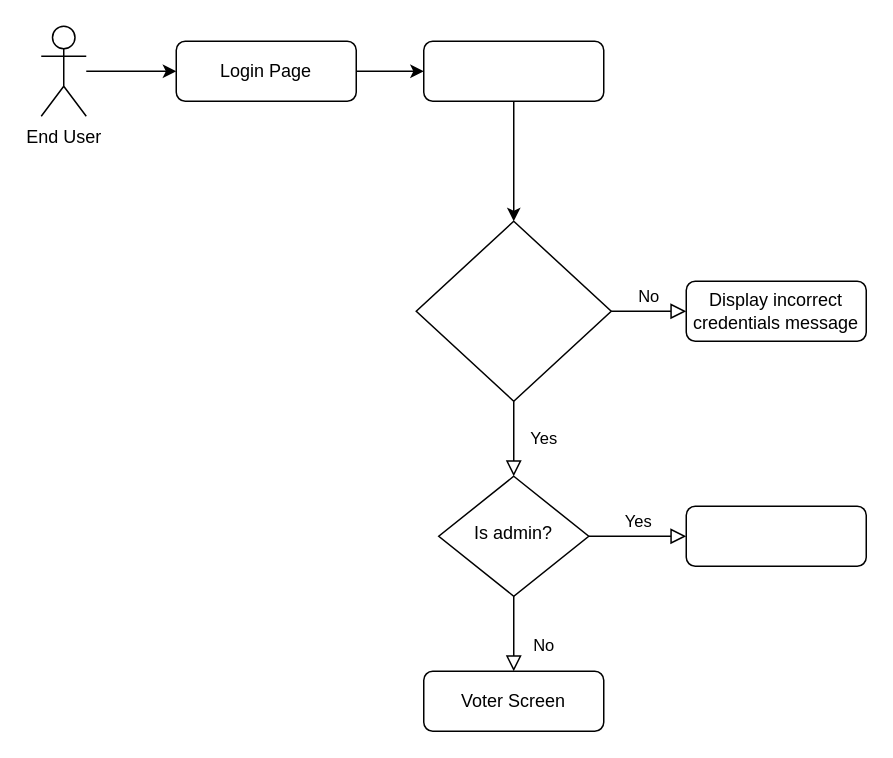
Image size: 893x758. Some labels were removed from this diagram. Each missing label, with the box of its shape:
Admin screen: (685, 505, 866, 566)
Enter credentials: (422, 40, 604, 101)
Valid credentials entered?: (415, 220, 611, 401)
